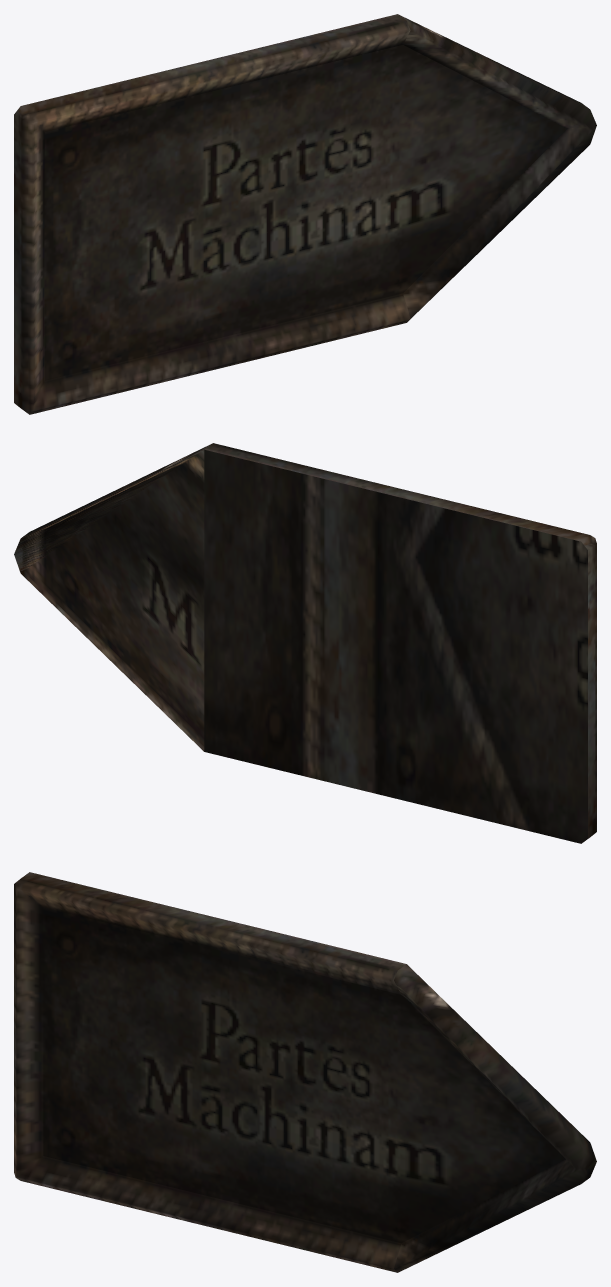
The model's file is sign_machine_parts_right.dae.
The picture shows the model from 3 angles, top to bottom: view 1: azimuth 30°, elevation 25°; view 2: azimuth 150°, elevation 25°; view 3: azimuth 330°, elevation 25°; orthographic projection.
Visible parts, largest first — view 1: Box02; view 2: Box02; view 3: Box02.
Part boxes in pixels (box(x1,y1,x2,y2)): Box02: box(14, 14, 596, 414); Box02: box(14, 443, 596, 843); Box02: box(14, 872, 596, 1272).
Size of the model in its own units: 0.6037 by 0.0235 by 0.3038.
